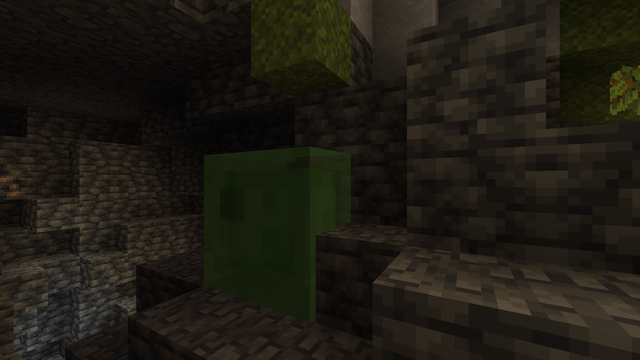slimes: (199, 138, 353, 324)
